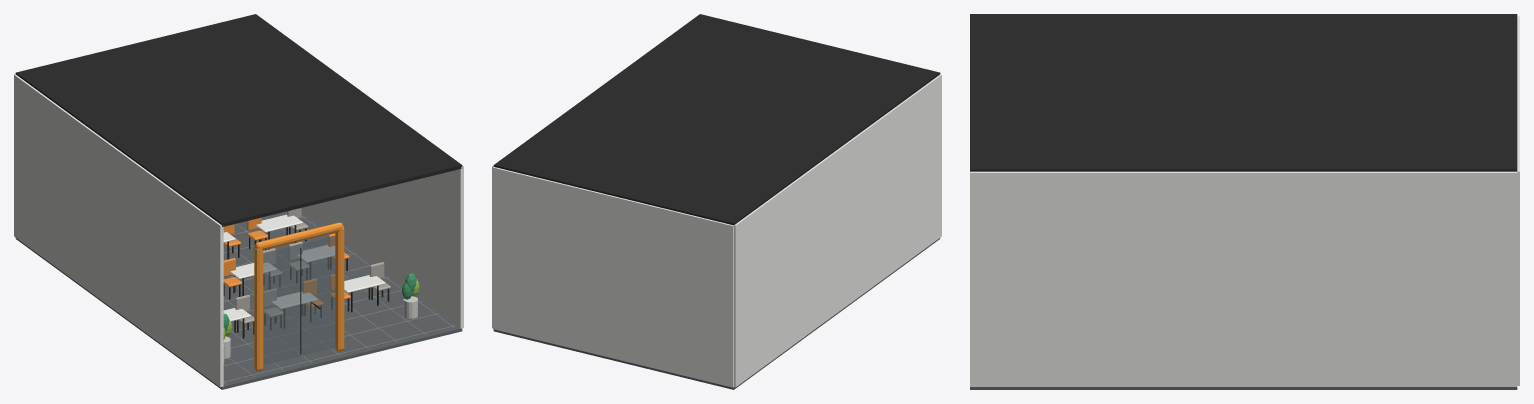
File: NIC_Lobby.glb
3 views of the same model, side by side, from view 1: azimuth 30°, elevation 25°; view 2: azimuth 150°, elevation 25°; view 3: azimuth 270°, elevation 25° (orthographic). The views are drawn at different scales.
Visible parts, largest first — view 1: NIC_Ceiling, NIC_LeftWall, NIC_Floor, NIC_RightWall, NIC_Entry_Glass, NIC_Entry_Orange_Left, NIC_Entry_Orange_Right, NIC_Entry_Orange_Top, NIC_Table_8_Top, NIC_Table_2_Top, NIC_Table_1_Top, NIC_Table_5_Top (+1 smaller); view 2: NIC_Ceiling, NIC_BackWall, NIC_LeftWall, NIC_Floor; view 3: NIC_RightWall, NIC_Ceiling, NIC_Floor, NIC_BackWall.
Part boxes in pixels (left/top/right/bottom): NIC_Ceiling: left=15, top=14, right=462, bottom=226; NIC_LeftWall: left=14, top=74, right=223, bottom=387; NIC_Floor: left=15, top=211, right=462, bottom=389; NIC_RightWall: left=301, top=165, right=463, bottom=328; NIC_Entry_Glass: left=263, top=235, right=335, bottom=365; NIC_Entry_Orange_Left: left=254, top=247, right=263, bottom=370; NIC_Entry_Orange_Right: left=335, top=226, right=344, bottom=351; NIC_Entry_Orange_Top: left=255, top=222, right=342, bottom=249; NIC_Table_8_Top: left=256, top=214, right=302, bottom=232; NIC_Table_2_Top: left=344, top=275, right=385, bottom=292; NIC_Table_1_Top: left=271, top=291, right=317, bottom=308; NIC_Table_5_Top: left=297, top=245, right=334, bottom=262; NIC_Ceiling: left=493, top=14, right=940, bottom=225; NIC_BackWall: left=492, top=167, right=733, bottom=387; NIC_LeftWall: left=734, top=74, right=941, bottom=387; NIC_Floor: left=493, top=238, right=940, bottom=389; NIC_RightWall: left=970, top=171, right=1517, bottom=386; NIC_Ceiling: left=970, top=14, right=1517, bottom=171; NIC_Floor: left=970, top=387, right=1517, bottom=389; NIC_BackWall: left=1517, top=16, right=1519, bottom=385.
Size of the model in its own units: 8.52 by 5.56 by 12.56.
